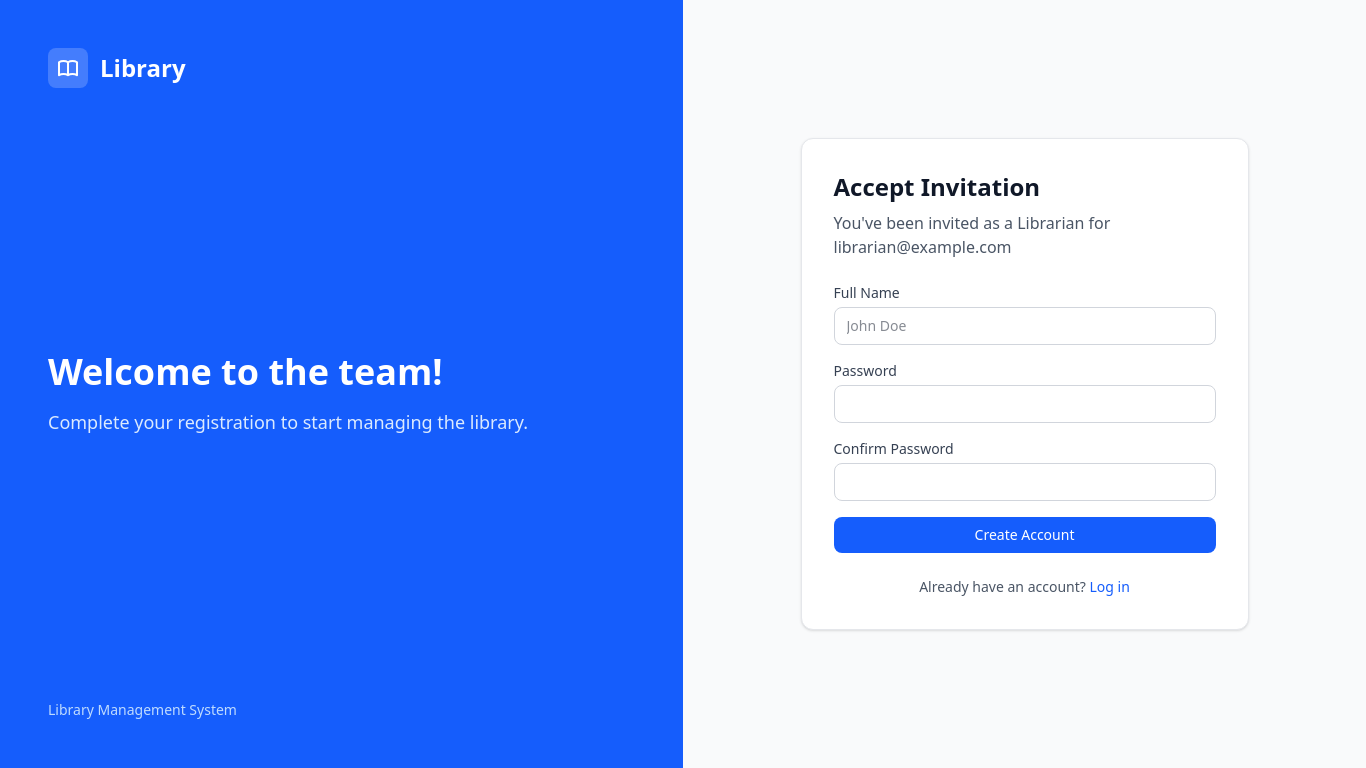
Test: AcceptInvitation › should validate password match
Expected: the heading "Accept Invitation" is shown, [834,170,1040,203]
Type "Test User" into the field labelled "Full Name" at (1024, 326), box [834,307,1216,345]
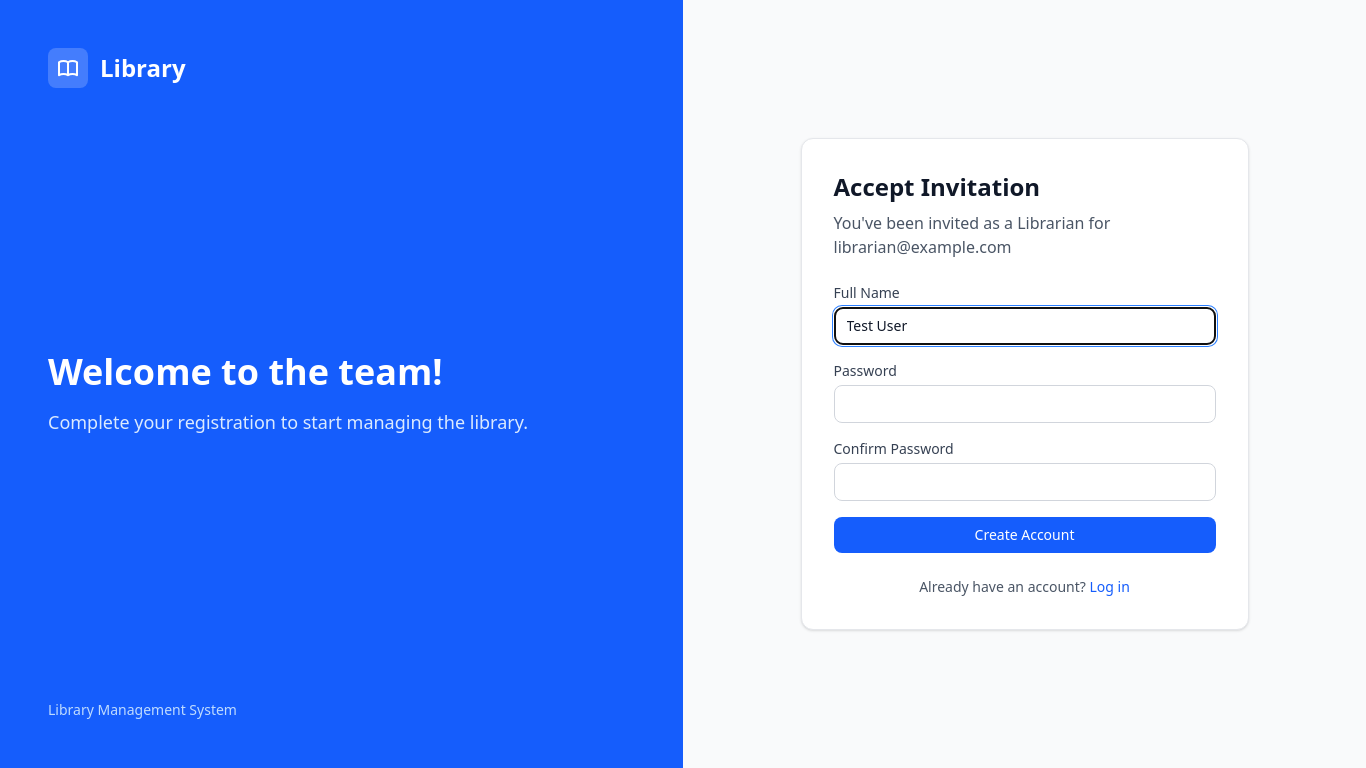
Type "password123" into the password field labelled "Password" at (1024, 404), box [834,385,1216,423]
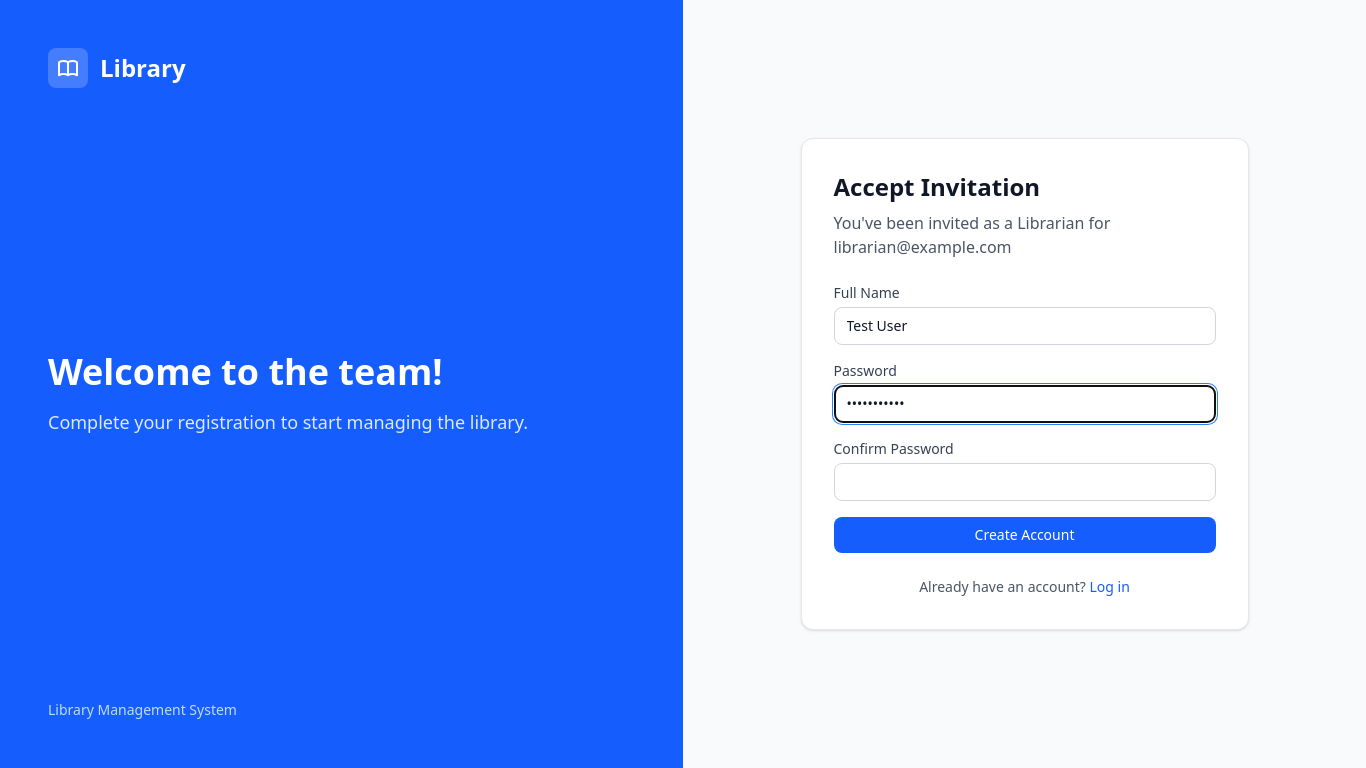
Type "differentpassword" into the password field labelled "Confirm Password" at (1024, 482), box [834,463,1216,501]
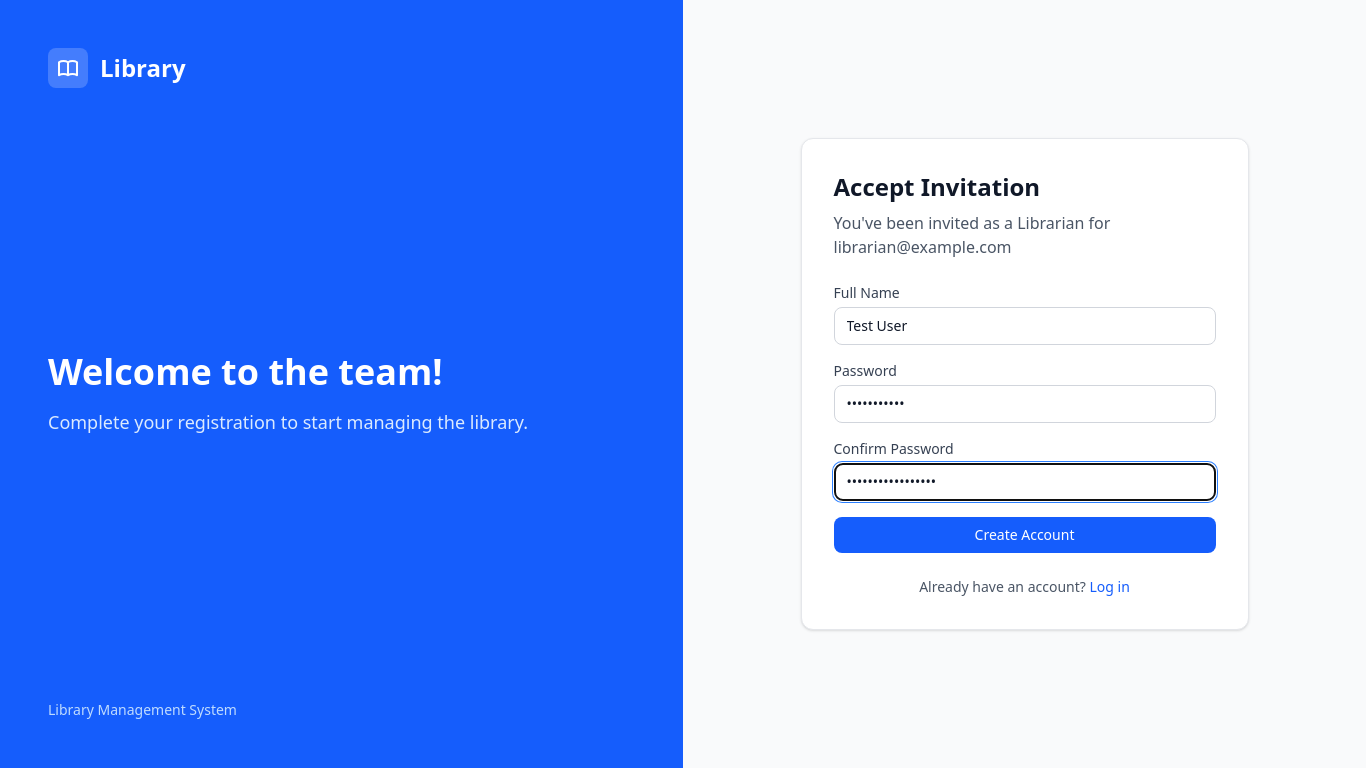
Click the button "Create Account" at (1024, 535), box [834,517,1216,553]
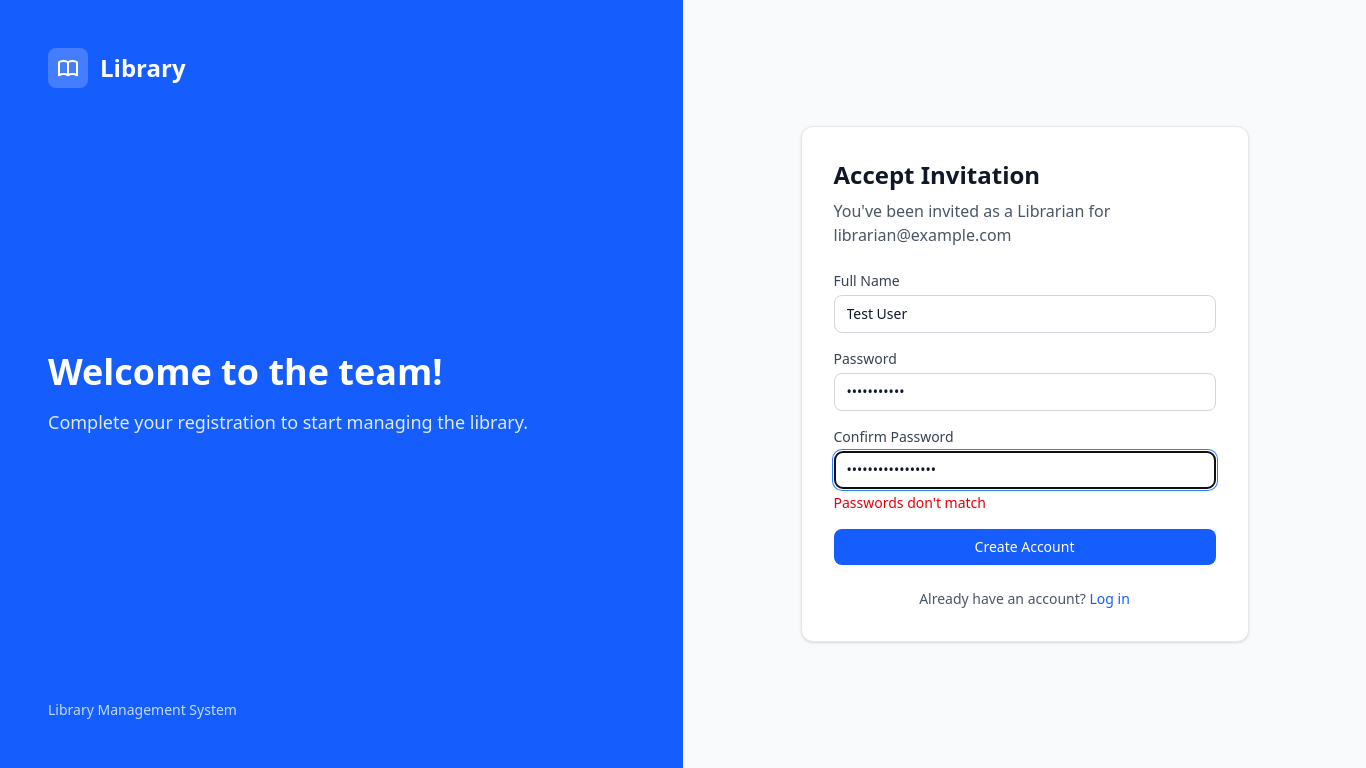
Result: the text "Passwords don't match" is shown at [834,493,986,512]
